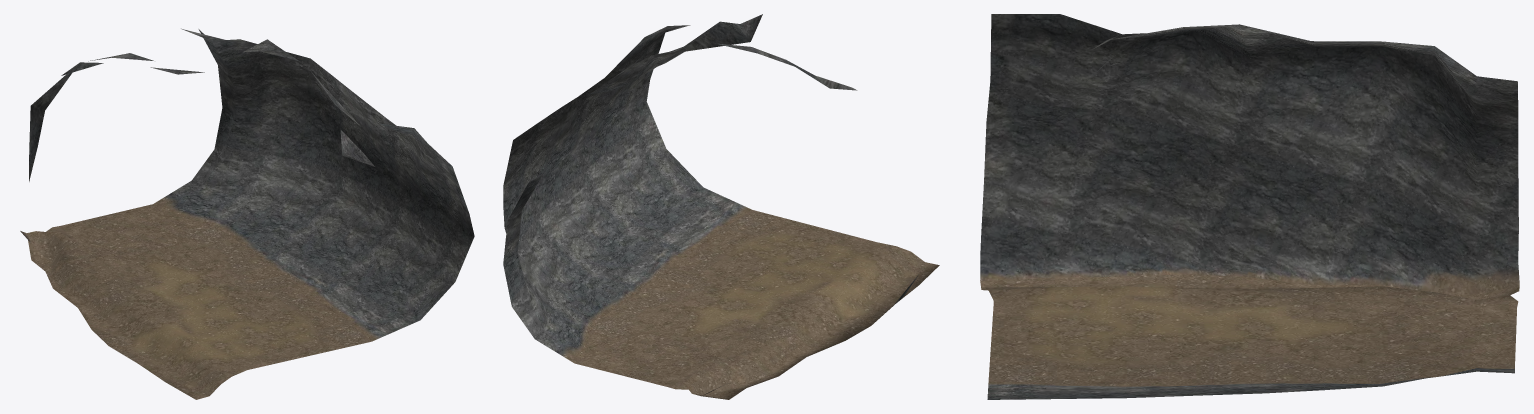
The model's file is TunnelA10.glb.
3 views of the same model, side by side, from view 1: azimuth 30°, elevation 25°; view 2: azimuth 150°, elevation 25°; view 3: azimuth 270°, elevation 25° (orthographic). The views are drawn at different scales.
Visible parts, largest first — view 1: TunnelA10; view 2: TunnelA10; view 3: TunnelA10.
Part boxes in pixels (x1,y1,x2,y2): TunnelA10: [20, 28, 474, 399]; TunnelA10: [503, 14, 939, 399]; TunnelA10: [980, 14, 1519, 399].
Bounding box in the file's own units: 4.22 × 2.95 × 4.88.
Materials: 1 (1 with a texture image).
